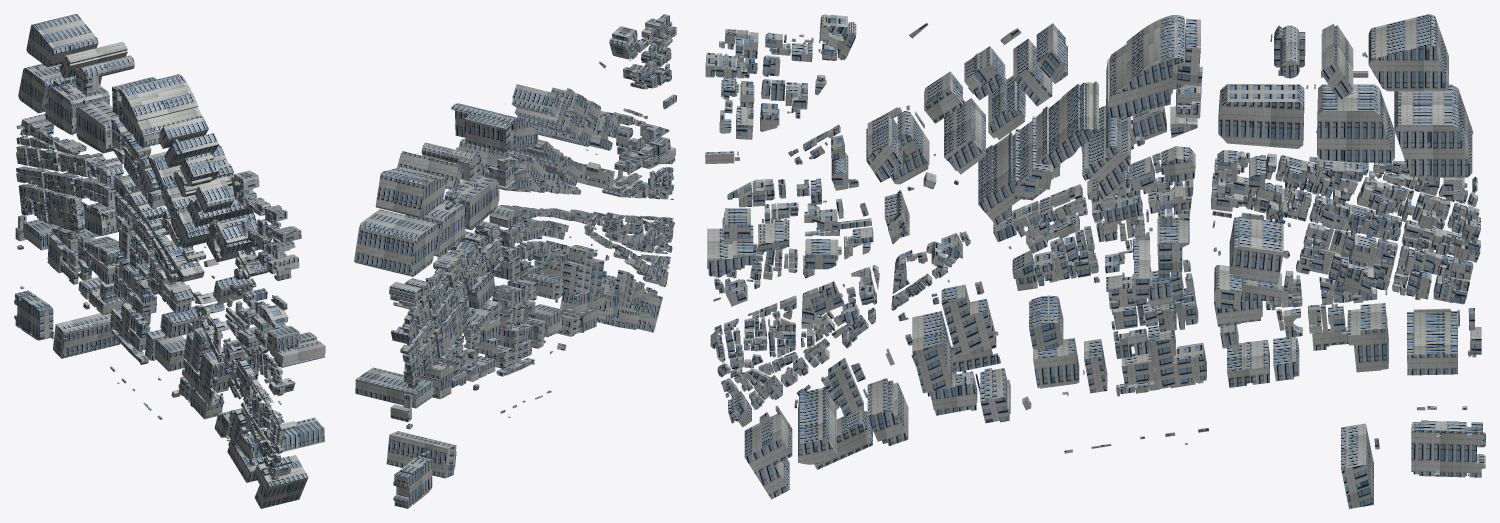
Rendered from umeda_fake.fbx.
3 renders of one model, left to right at view 1: azimuth 30°, elevation 25°; view 2: azimuth 150°, elevation 25°; view 3: azimuth 270°, elevation 25°, orthographic. The views are drawn at different scales.
Parts seen in each view (by area): view 1: bldg_7db6a1f4-3d50-4a57-84b8-a512bc768289, bldg_c1d78a73-b68c-4593-9ed6-e6c04e93c399, bldg_348dba4b-af9a-4ceb-9650-903f888b268e, bldg_42b63925-c45d-4feb-a9bc-113b36882271, bldg_a92e275e-fee6-4710-b7d6-97a4f1500f1d, bldg_5ee6e0d5-1691-432f-9b60-b1dce3807b82, bldg_f62b1869-6646-408c-b268-fbfe38e9187e, bldg_33fffbb7-5e2b-4929-a306-8fd3f30fbf69, bldg_38deb69f-568b-48f2-bf33-cda5f83e35fb, bldg_174f3137-3cb3-4b62-86bb-af7d7e4ad283, bldg_e80a03a1-1707-4f6c-8b84-8b6fc8f72dfb, bldg_51531348-0515-4e94-b645-f55915883804 (+38 smaller); view 2: bldg_f62b1869-6646-408c-b268-fbfe38e9187e, bldg_c1d78a73-b68c-4593-9ed6-e6c04e93c399, bldg_348dba4b-af9a-4ceb-9650-903f888b268e, bldg_e99710fb-83e4-471c-82c8-ed41f955797f, bldg_5ee6e0d5-1691-432f-9b60-b1dce3807b82, bldg_33fffbb7-5e2b-4929-a306-8fd3f30fbf69, bldg_a92e275e-fee6-4710-b7d6-97a4f1500f1d, bldg_a35e5411-e685-43ce-9174-eb85ca5578ef, bldg_7db6a1f4-3d50-4a57-84b8-a512bc768289, bldg_c40b0b93-da13-4397-90d8-80230cefe1d5, bldg_174f3137-3cb3-4b62-86bb-af7d7e4ad283, bldg_79363be9-9c5d-46f0-adcd-5be421e8c1ef (+29 smaller); view 3: bldg_f62b1869-6646-408c-b268-fbfe38e9187e, bldg_7db6a1f4-3d50-4a57-84b8-a512bc768289, bldg_a92e275e-fee6-4710-b7d6-97a4f1500f1d, bldg_c1d78a73-b68c-4593-9ed6-e6c04e93c399, bldg_5ee6e0d5-1691-432f-9b60-b1dce3807b82, bldg_33fffbb7-5e2b-4929-a306-8fd3f30fbf69, bldg_c0fcb54b-d47c-49e0-a463-8d2f71d19255, bldg_11480ca8-7d04-4325-b4f8-377affab1468, bldg_e99710fb-83e4-471c-82c8-ed41f955797f, bldg_79363be9-9c5d-46f0-adcd-5be421e8c1ef, bldg_42b63925-c45d-4feb-a9bc-113b36882271, bldg_c40b0b93-da13-4397-90d8-80230cefe1d5 (+40 smaller).
Part boxes in pixels (x1,y1,x2,y2): bldg_7db6a1f4-3d50-4a57-84b8-a512bc768289: (117,74,202,147); bldg_c1d78a73-b68c-4593-9ed6-e6c04e93c399: (26,14,98,67); bldg_348dba4b-af9a-4ceb-9650-903f888b268e: (53,313,120,358); bldg_42b63925-c45d-4feb-a9bc-113b36882271: (253,455,308,508); bldg_a92e275e-fee6-4710-b7d6-97a4f1500f1d: (45,82,109,134); bldg_5ee6e0d5-1691-432f-9b60-b1dce3807b82: (76,100,118,153); bldg_f62b1869-6646-408c-b268-fbfe38e9187e: (18,63,101,113); bldg_33fffbb7-5e2b-4929-a306-8fd3f30fbf69: (14,290,53,340); bldg_38deb69f-568b-48f2-bf33-cda5f83e35fb: (238,417,324,459); bldg_174f3137-3cb3-4b62-86bb-af7d7e4ad283: (59,42,127,78); bldg_e80a03a1-1707-4f6c-8b84-8b6fc8f72dfb: (267,332,325,367); bldg_51531348-0515-4e94-b645-f55915883804: (199,344,258,390); bldg_f62b1869-6646-408c-b268-fbfe38e9187e: (354,209,438,276); bldg_c1d78a73-b68c-4593-9ed6-e6c04e93c399: (375,167,447,218); bldg_348dba4b-af9a-4ceb-9650-903f888b268e: (386,431,456,478); bldg_e99710fb-83e4-471c-82c8-ed41f955797f: (355,367,433,408); bldg_5ee6e0d5-1691-432f-9b60-b1dce3807b82: (444,175,499,230); bldg_33fffbb7-5e2b-4929-a306-8fd3f30fbf69: (393,456,432,508); bldg_a92e275e-fee6-4710-b7d6-97a4f1500f1d: (405,199,465,256); bldg_a35e5411-e685-43ce-9174-eb85ca5578ef: (464,114,515,152); bldg_7db6a1f4-3d50-4a57-84b8-a512bc768289: (451,103,538,150); bldg_c40b0b93-da13-4397-90d8-80230cefe1d5: (559,245,594,294); bldg_174f3137-3cb3-4b62-86bb-af7d7e4ad283: (397,151,463,191); bldg_79363be9-9c5d-46f0-adcd-5be421e8c1ef: (456,139,546,191); bldg_f62b1869-6646-408c-b268-fbfe38e9187e: (1394,84,1472,177); bldg_7db6a1f4-3d50-4a57-84b8-a512bc768289: (1106,15,1184,118); bldg_a92e275e-fee6-4710-b7d6-97a4f1500f1d: (1317,84,1394,162); bldg_c1d78a73-b68c-4593-9ed6-e6c04e93c399: (1368,14,1448,91); bldg_5ee6e0d5-1691-432f-9b60-b1dce3807b82: (1218,84,1304,148); bldg_33fffbb7-5e2b-4929-a306-8fd3f30fbf69: (1411,420,1485,477); bldg_c0fcb54b-d47c-49e0-a463-8d2f71d19255: (1036,81,1098,177); bldg_11480ca8-7d04-4325-b4f8-377affab1468: (1229,216,1283,283); bldg_e99710fb-83e4-471c-82c8-ed41f955797f: (1407,311,1457,375); bldg_79363be9-9c5d-46f0-adcd-5be421e8c1ef: (1082,98,1130,199); bldg_42b63925-c45d-4feb-a9bc-113b36882271: (744,411,792,499); bldg_c40b0b93-da13-4397-90d8-80230cefe1d5: (941,284,996,356).
Size of the model in its own units: 194 by 761 by 1175.
Materials: 1 (1 with a texture image).
